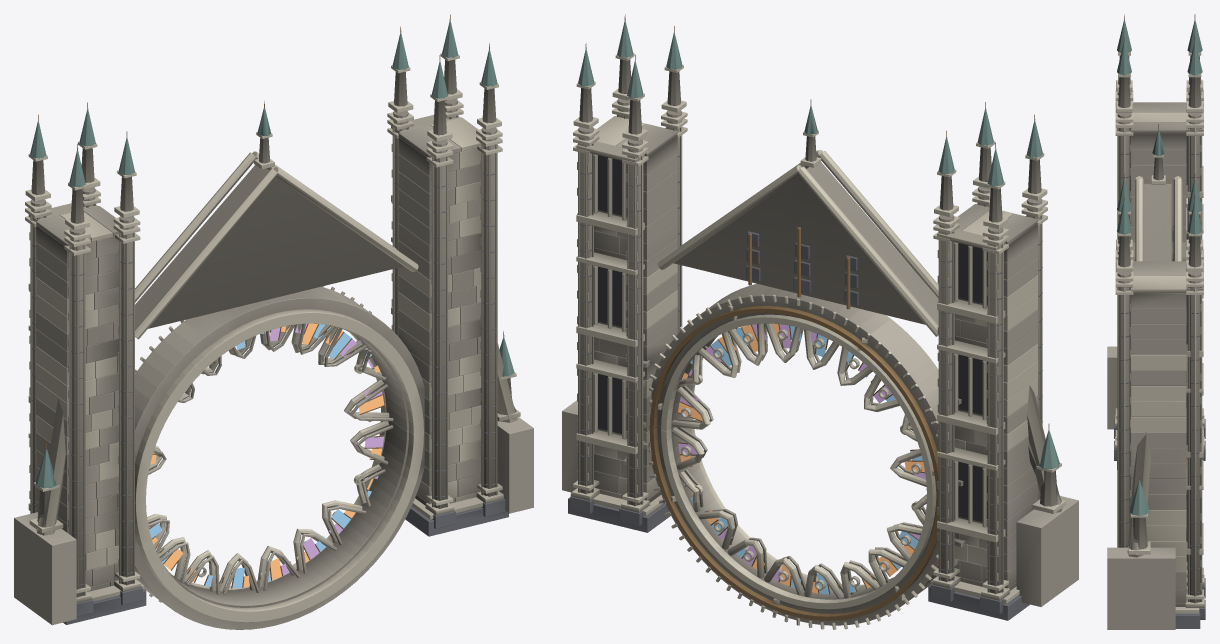
File: cathedral-facade.glb
3 views of the same model, side by side, from view 1: azimuth 30°, elevation 25°; view 2: azimuth 150°, elevation 25°; view 3: azimuth 270°, elevation 25° (orthographic). The views are drawn at different scales.
Visible parts, largest first — view 1: cathedral-facade__limestone, cathedral-facade__pale, cathedral-facade__shadow, cathedral-facade__copper, cathedral-facade__rose_amber, cathedral-facade__rose_blue, cathedral-facade__rose_lilac, cathedral-facade__bronze; view 2: cathedral-facade__limestone, cathedral-facade__pale, cathedral-facade__shadow, cathedral-facade__bronze, cathedral-facade__copper, cathedral-facade__rose_amber, cathedral-facade__rose_blue, cathedral-facade__rose_lilac; view 3: cathedral-facade__limestone, cathedral-facade__pale, cathedral-facade__copper, cathedral-facade__shadow.
Part boxes in pixels (x1=…): cathedral-facade__limestone: x1=14, y1=59, x2=533, y2=629; cathedral-facade__pale: x1=25, y1=53, x2=520, y2=622; cathedral-facade__shadow: x1=32, y1=156, x2=508, y2=624; cathedral-facade__copper: x1=30, y1=20, x2=514, y2=488; cathedral-facade__rose_amber: x1=150, y1=323, x2=384, y2=587; cathedral-facade__rose_blue: x1=149, y1=324, x2=371, y2=588; cathedral-facade__rose_lilac: x1=148, y1=323, x2=384, y2=575; cathedral-facade__bronze: x1=38, y1=14, x2=504, y2=588; cathedral-facade__limestone: x1=562, y1=59, x2=1078, y2=625; cathedral-facade__pale: x1=570, y1=53, x2=1065, y2=629; cathedral-facade__shadow: x1=568, y1=155, x2=1042, y2=620; cathedral-facade__bronze: x1=585, y1=14, x2=1049, y2=620; cathedral-facade__copper: x1=578, y1=20, x2=1059, y2=469; cathedral-facade__rose_amber: x1=678, y1=323, x2=924, y2=593; cathedral-facade__rose_blue: x1=690, y1=326, x2=922, y2=594; cathedral-facade__rose_lilac: x1=678, y1=324, x2=925, y2=581; cathedral-facade__limestone: x1=1107, y1=55, x2=1201, y2=629; cathedral-facade__pale: x1=1115, y1=52, x2=1204, y2=613; cathedral-facade__copper: x1=1117, y1=20, x2=1202, y2=515; cathedral-facade__shadow: x1=1114, y1=136, x2=1205, y2=628.
Size of the model in its own units: 234 by 251 by 45.95.
